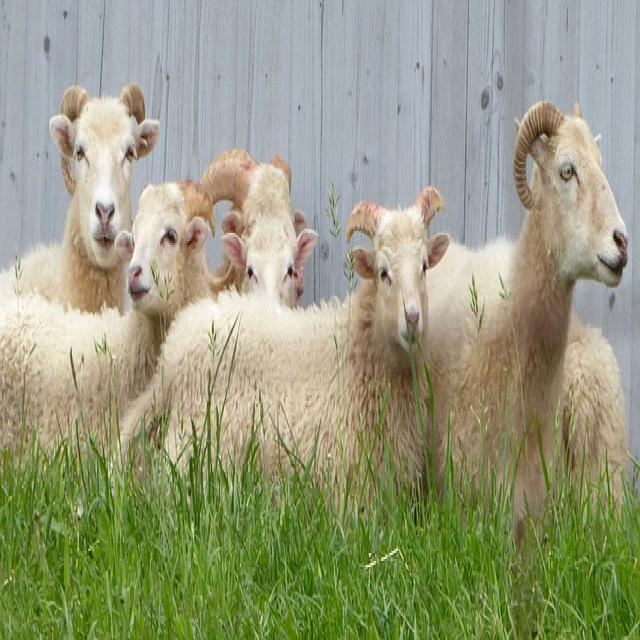goat: (120, 188, 452, 490), (422, 103, 629, 521), (0, 182, 217, 452), (15, 83, 160, 318)
